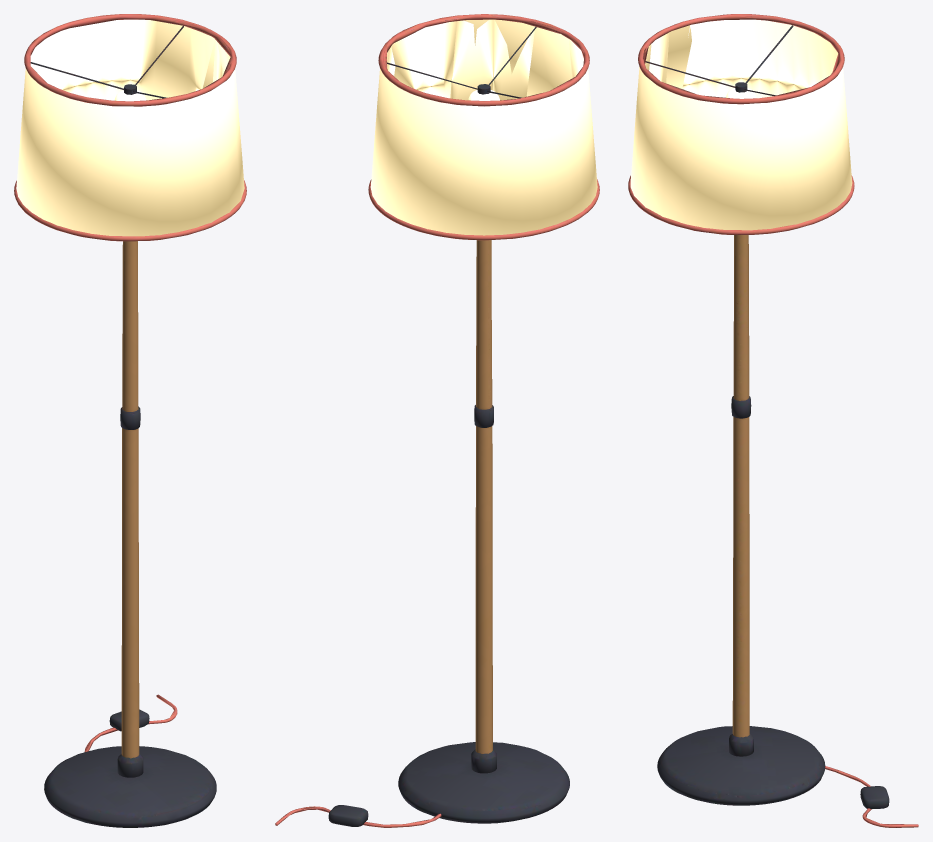
The model's file is g3d_floor_lamp.glb.
The picture shows the model from 3 angles, left to right: view 1: azimuth 30°, elevation 25°; view 2: azimuth 150°, elevation 25°; view 3: azimuth 270°, elevation 25°; orthographic projection. The views are drawn at different scales.
Visible parts, largest first — view 1: floor-lamp_shade_glow, floor-lamp_body, floor-lamp_shade_glow_lo, floor-lamp_body_lo; view 2: floor-lamp_shade_glow, floor-lamp_body, floor-lamp_shade_glow_lo, floor-lamp_body_lo; view 3: floor-lamp_shade_glow, floor-lamp_body, floor-lamp_shade_glow_lo, floor-lamp_body_lo.
Boxes of the visible parts, x1,y1,x2,y2 form: floor-lamp_shade_glow: (16, 19, 244, 236); floor-lamp_body: (14, 14, 246, 827); floor-lamp_shade_glow_lo: (56, 39, 230, 236); floor-lamp_body_lo: (29, 16, 231, 822); floor-lamp_shade_glow: (370, 19, 597, 235); floor-lamp_body: (275, 14, 599, 827); floor-lamp_shade_glow_lo: (387, 19, 595, 195); floor-lamp_body_lo: (279, 16, 584, 825); floor-lamp_shade_glow: (630, 19, 852, 230); floor-lamp_body: (628, 14, 918, 827); floor-lamp_shade_glow_lo: (645, 25, 765, 216); floor-lamp_body_lo: (643, 16, 913, 824).
Size of the model in its own units: 0.5064 by 1.61 by 0.5918.
Materials: 3 (1 with a texture image).
